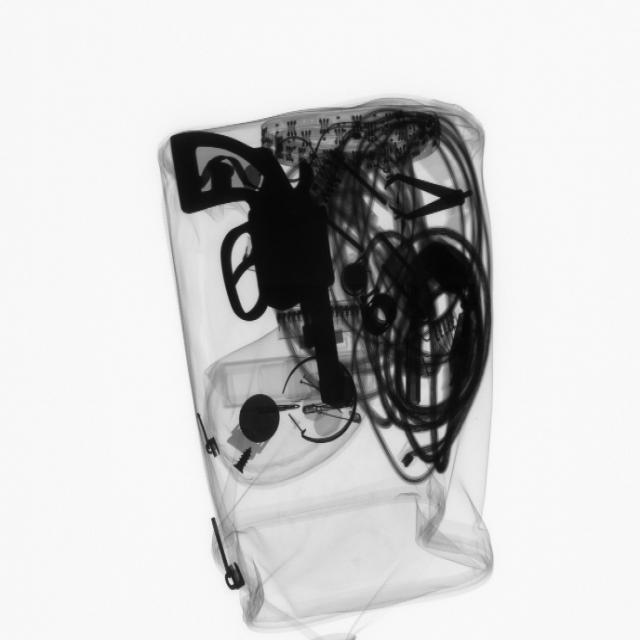GUN: (180, 120, 354, 411)
SCREW: (228, 442, 263, 483)
